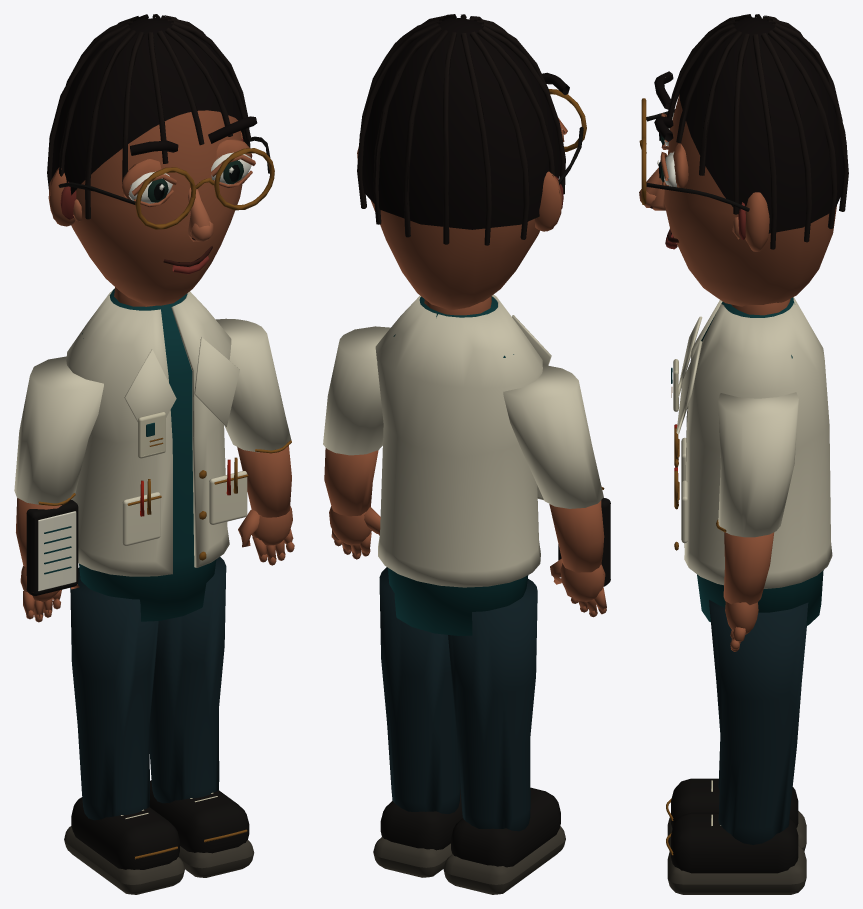
The model's file is doctor-13.glb.
3 renders of one model, left to right at view 1: azimuth 30°, elevation 25°; view 2: azimuth 150°, elevation 25°; view 3: azimuth 270°, elevation 25°, orthographic.
Parts seen in each view (by area): view 1: Head, Body, LegL, LegR, ArmL, ArmR; view 2: Head, Body, LegL, LegR, ArmL, ArmR; view 3: Head, Body, LegR, ArmR, LegL.
Part boxes in pixels (left/top/right/bottom): Head: left=47, top=14, right=274, bottom=306; Body: left=66, top=288, right=248, bottom=621; LegL: left=64, top=567, right=184, bottom=894; LegR: left=149, top=557, right=254, bottom=877; ArmL: left=14, top=356, right=103, bottom=622; ArmR: left=215, top=318, right=294, bottom=565; Head: left=357, top=14, right=586, bottom=315; Body: left=375, top=294, right=551, bottom=635; LegL: left=443, top=579, right=565, bottom=894; LegR: left=373, top=567, right=462, bottom=877; ArmL: left=503, top=364, right=610, bottom=617; ArmR: left=323, top=326, right=390, bottom=559; Head: left=639, top=14, right=848, bottom=315; Body: left=671, top=297, right=832, bottom=625; LegR: left=666, top=600, right=808, bottom=894; ArmR: left=716, top=392, right=798, bottom=651; LegL: left=666, top=737, right=806, bottom=851.
Size of the model in its own units: 0.5157 by 1.51 by 0.3413.
